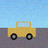vehicle: (8, 22, 36, 40)
